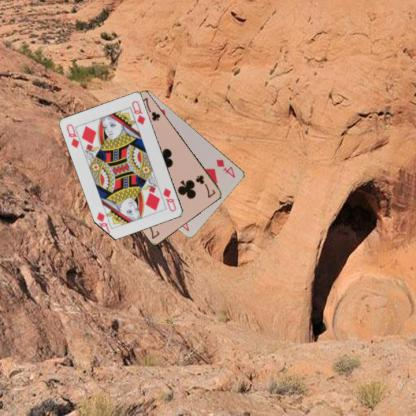4d: (214, 157, 236, 179)
7c: (193, 172, 217, 199)
Qd: (64, 121, 84, 150), (160, 186, 178, 212)
